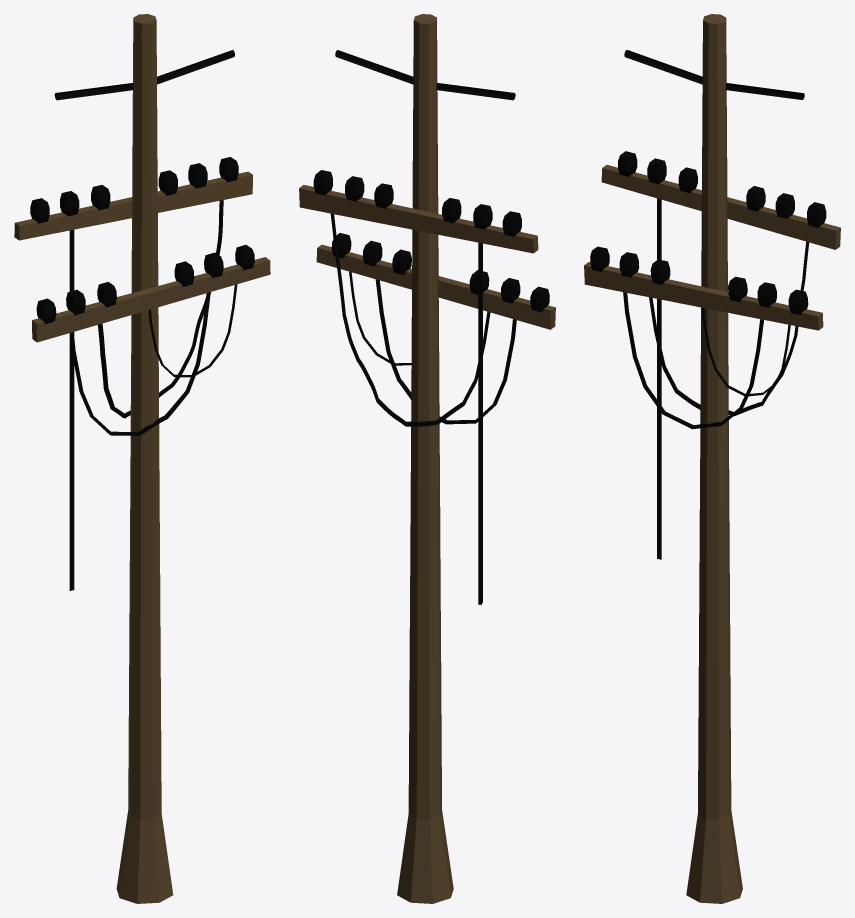
File: Electric_Pole.fbx
The picture shows the model from 3 angles, left to right: view 1: azimuth 30°, elevation 25°; view 2: azimuth 150°, elevation 25°; view 3: azimuth 330°, elevation 25°; orthographic projection.
Visible parts, largest first — view 1: Electric_Pole; view 2: Electric_Pole; view 3: Electric_Pole.
Boxes of the visible parts, x1=… form: Electric_Pole: x1=14, y1=14, x2=270, y2=903; Electric_Pole: x1=299, y1=14, x2=555, y2=903; Electric_Pole: x1=584, y1=14, x2=840, y2=903.
Bounding box in the file's own units: 702 × 2498 × 152.
